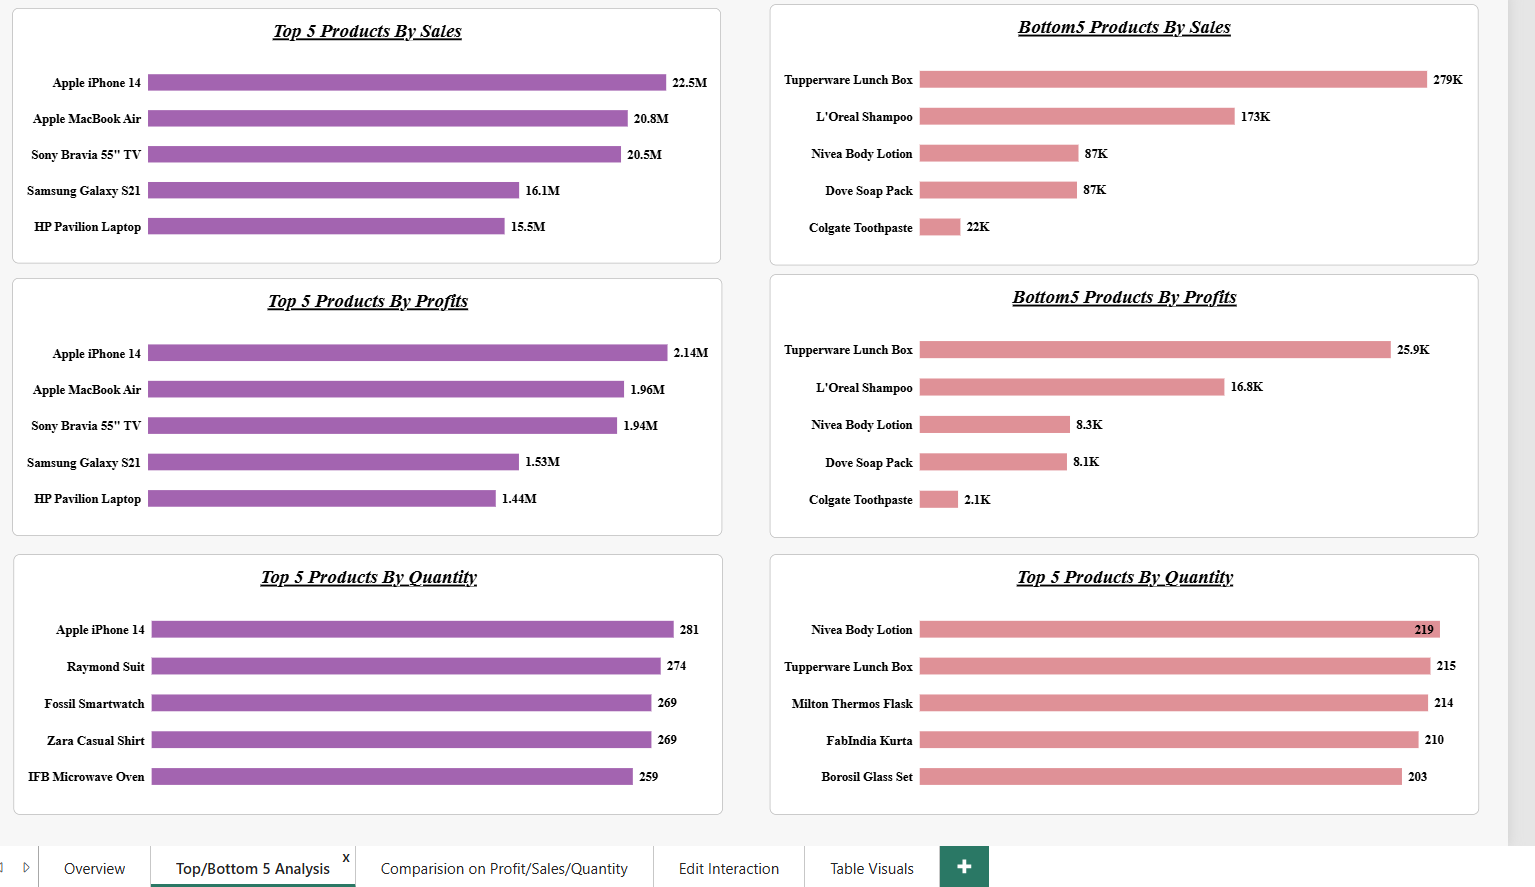

The dashboard page shown, as its layout file describes it:
{"tool":"powerbi","page":{"name":"Top/Bottom 5 Analysis","canvas":[1920,1080],"ordinal":1},"visuals":[{"type":"barChart","title":"Top 5 Products By Sales","fields":{"Y":["Sum(Fact Table.Total Sales)"],"Category":["Dim Product.Product Name"]},"box":[26.7,18.3,896.7,323.3],"z":0},{"type":"barChart","title":"Bottom5 Products By Sales","fields":{"Y":["Sum(Fact Table.Total Sales)"],"Category":["Dim Product.Product Name"]},"box":[985,15,896.7,330],"z":1000},{"type":"barChart","title":"Top 5 Products By Profits","fields":{"Category":["Dim Product.Product Name"],"Y":["Sum(Fact Table.Profit)"]},"box":[26.7,360,898.3,326.7],"z":2000},{"type":"barChart","title":"Bottom5 Products By Profits","fields":{"Category":["Dim Product.Product Name"],"Y":["Sum(Fact Table.Profit)"]},"box":[985,356.7,896.7,333.3],"z":3000},{"type":"barChart","title":"Top 5 Products By Quantity","fields":{"Category":["Dim Product.Product Name"],"Y":["Sum(Fact Table.Units Sold)"]},"box":[28.3,710,897.3,329.3],"z":4000},{"type":"barChart","title":"Top 5 Products By Quantity","fields":{"Category":["Dim Product.Product Name"],"Y":["Sum(Fact Table.Units Sold)"]},"box":[985,710,897.3,329.3],"z":5000}]}

Visuals, with their boxes on the page's 1920x1080 design canvas (x1, y1, x2, y2). These are canvas units, not pixel positions in the 1535x887 screenshot, which may show the page scaled, cropped or inside an application window:
"Top 5 Products By Sales" barChart: 27, 18, 923, 342
"Bottom5 Products By Sales" barChart: 985, 15, 1882, 345
"Top 5 Products By Profits" barChart: 27, 360, 925, 687
"Bottom5 Products By Profits" barChart: 985, 357, 1882, 690
"Top 5 Products By Quantity" barChart: 28, 710, 926, 1039
"Top 5 Products By Quantity" barChart: 985, 710, 1882, 1039
